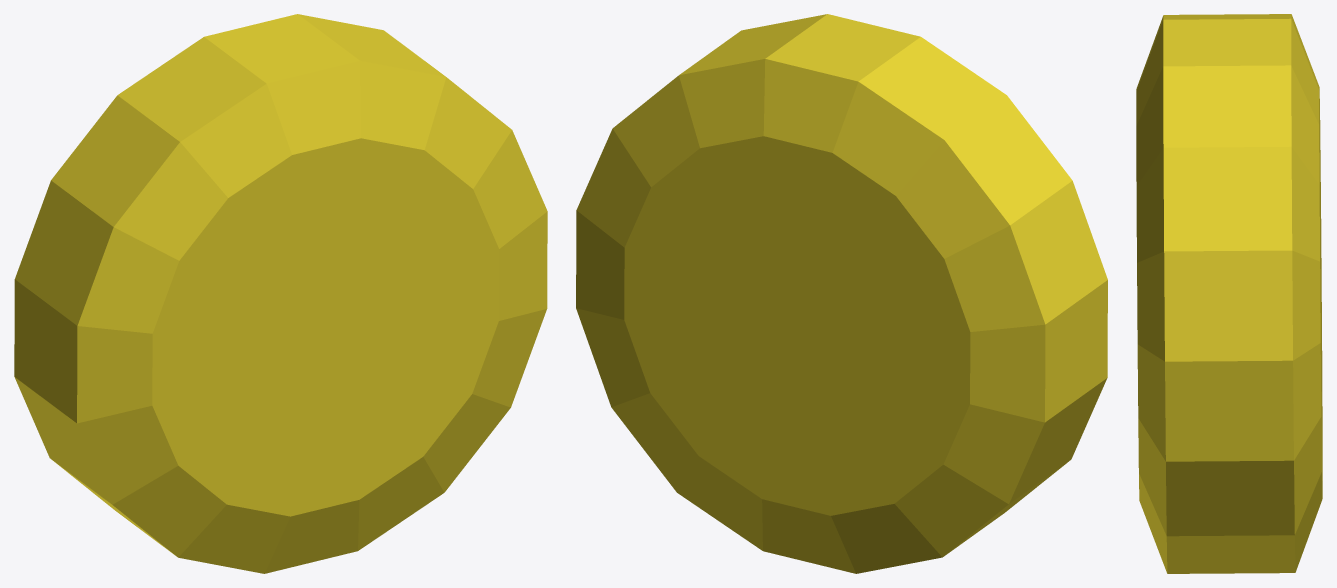
File: coincolored111.fbx
3 renders of one model, left to right at view 1: azimuth 30°, elevation 25°; view 2: azimuth 150°, elevation 25°; view 3: azimuth 270°, elevation 25°, orthographic. The views are drawn at different scales.
Visible parts, largest first — view 1: Cylinder; view 2: Cylinder; view 3: Cylinder.
Part boxes in pixels (box(x1,y1,x2,y2)): Cylinder: box(14, 14, 547, 573); Cylinder: box(576, 14, 1107, 573); Cylinder: box(1136, 14, 1322, 573).
Bounding box in the file's own units: 562 × 563 × 189.
